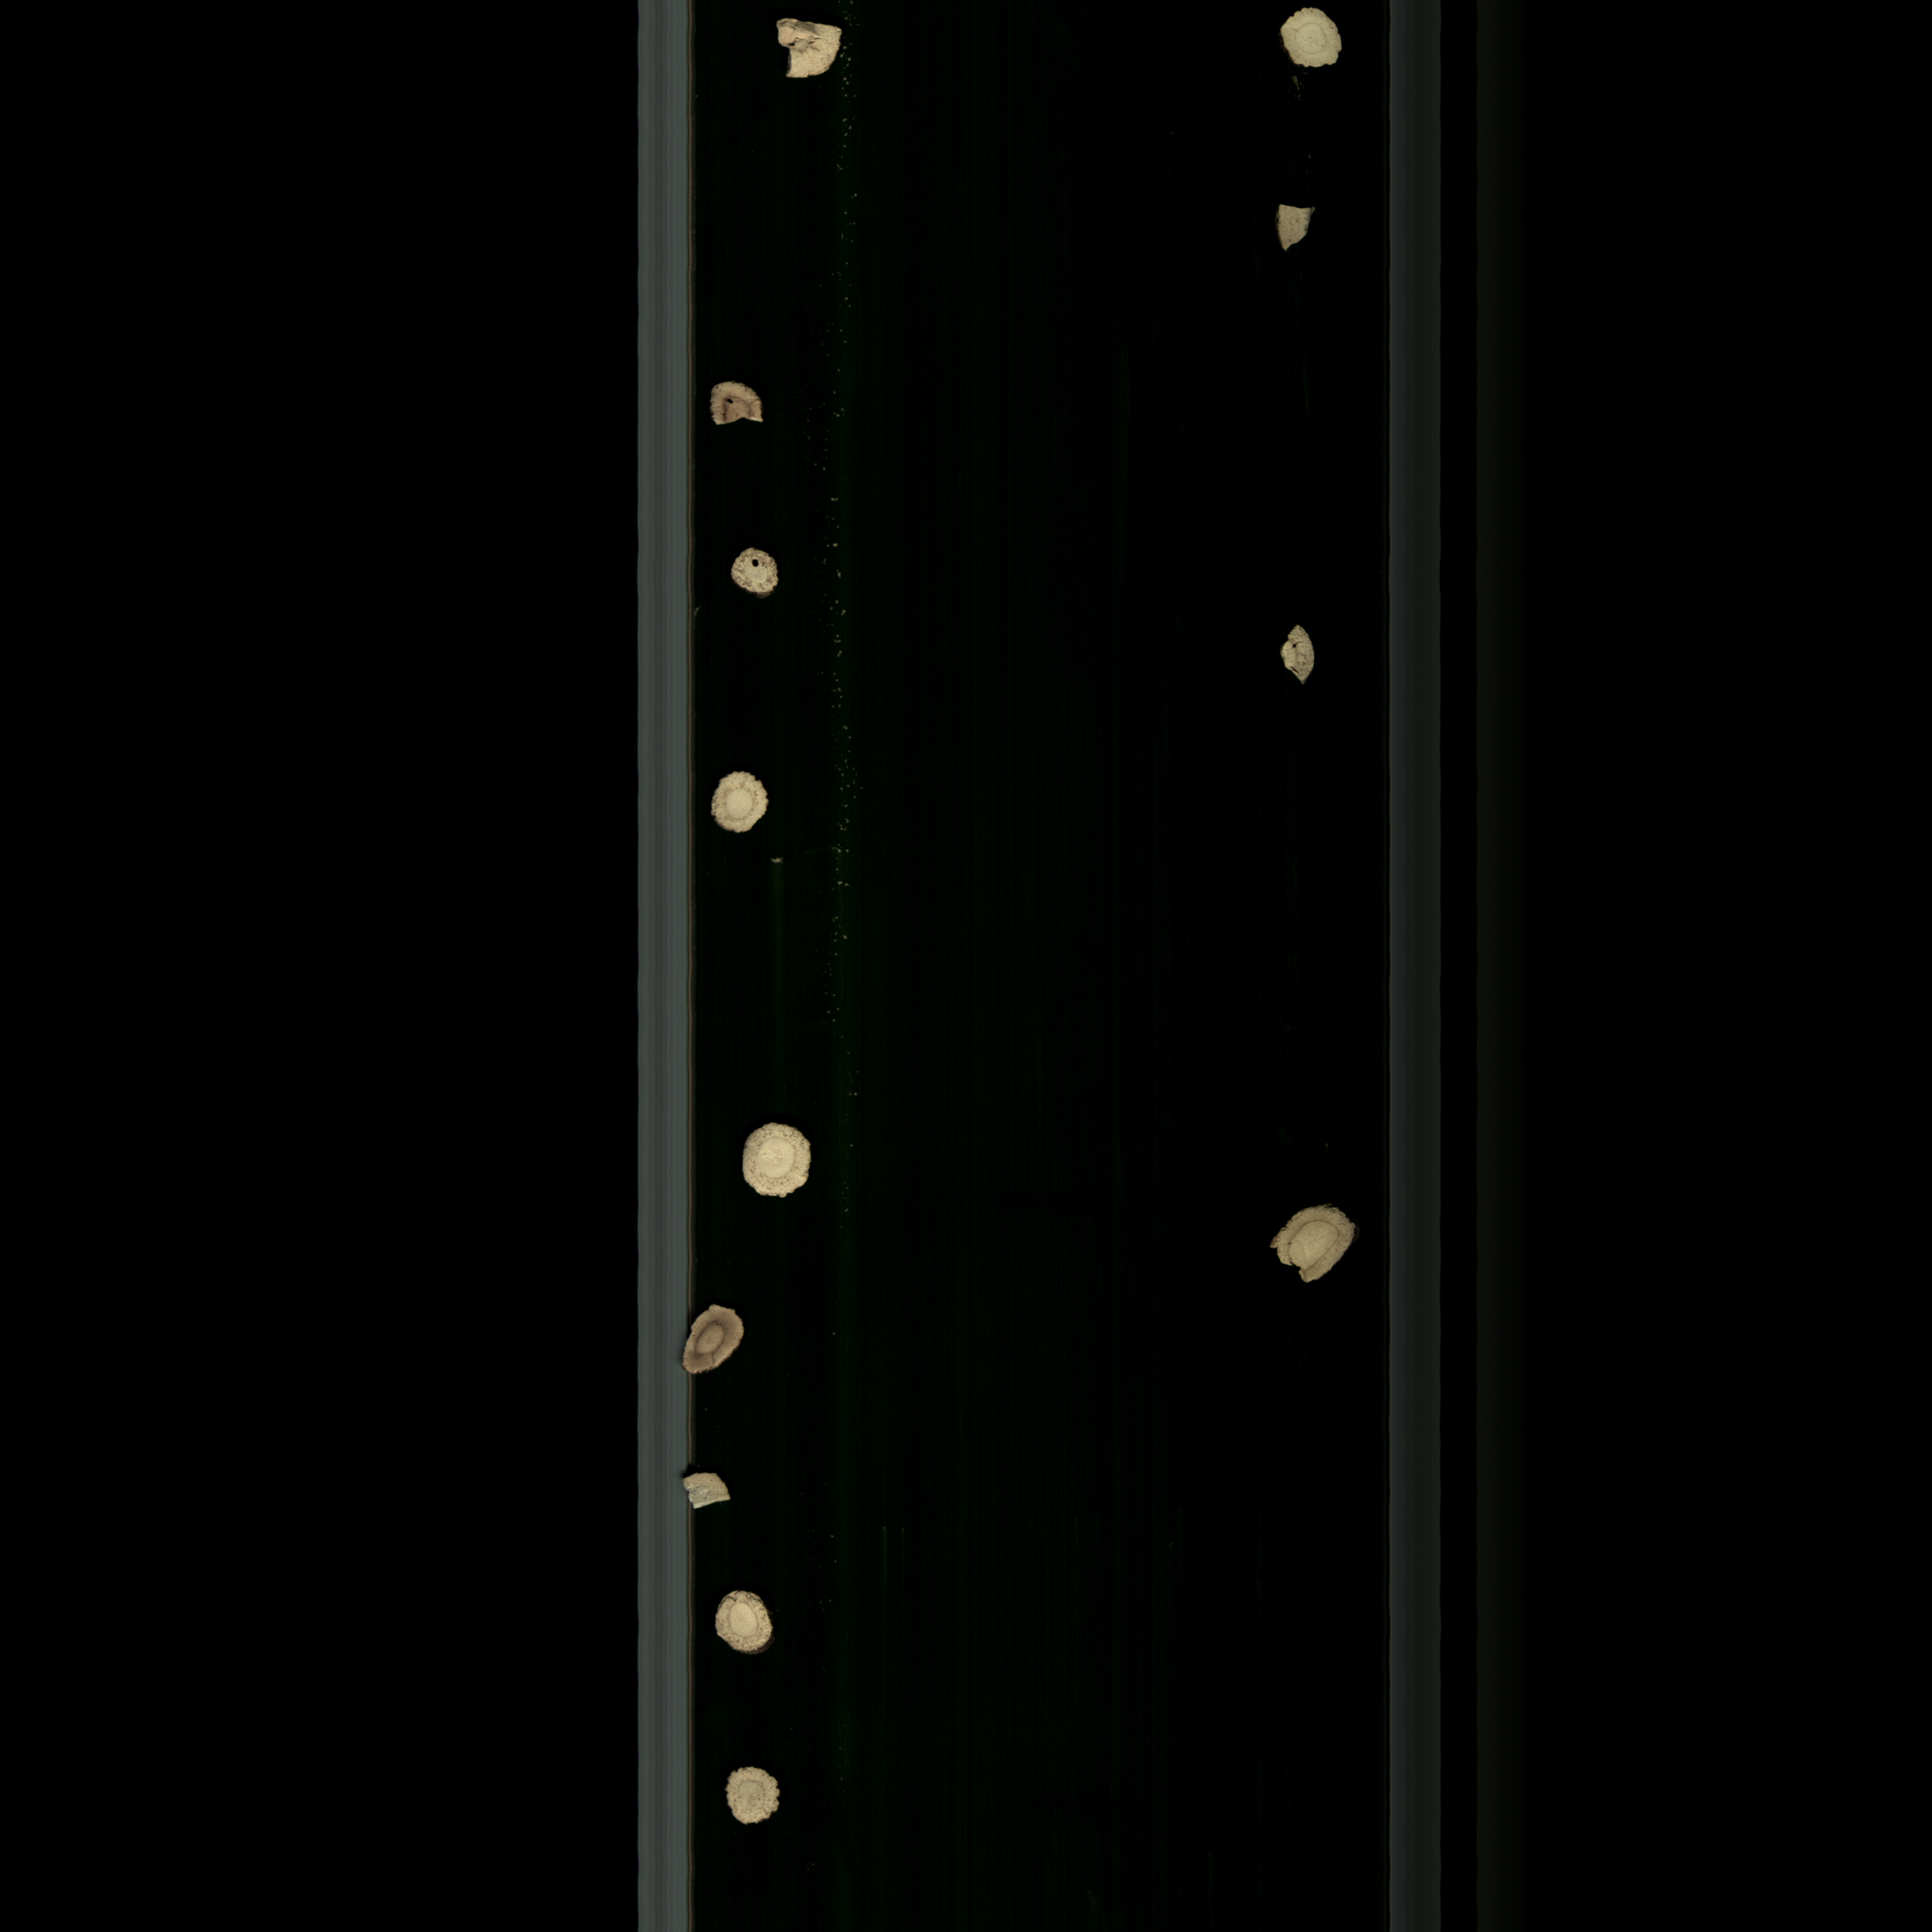debris: (1263, 1198, 1361, 1297), (766, 11, 856, 87)
distortion: (722, 1759, 787, 1836)
dreg: (1260, 623, 1327, 709), (1265, 193, 1325, 265), (678, 1467, 743, 1516)
moldy: (674, 1292, 755, 1380), (724, 540, 794, 602), (708, 380, 773, 433)
